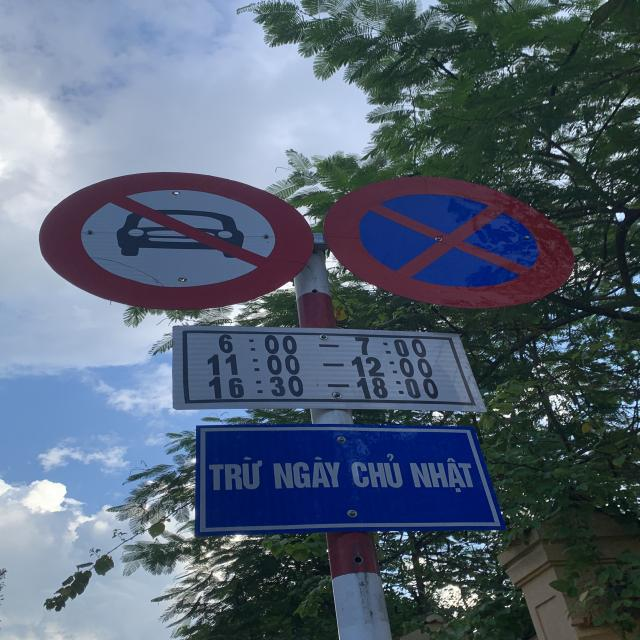Cam_Dung_Va_Dau_Xe: (330, 176, 573, 308)
Cam_O_To: (40, 170, 315, 309)
